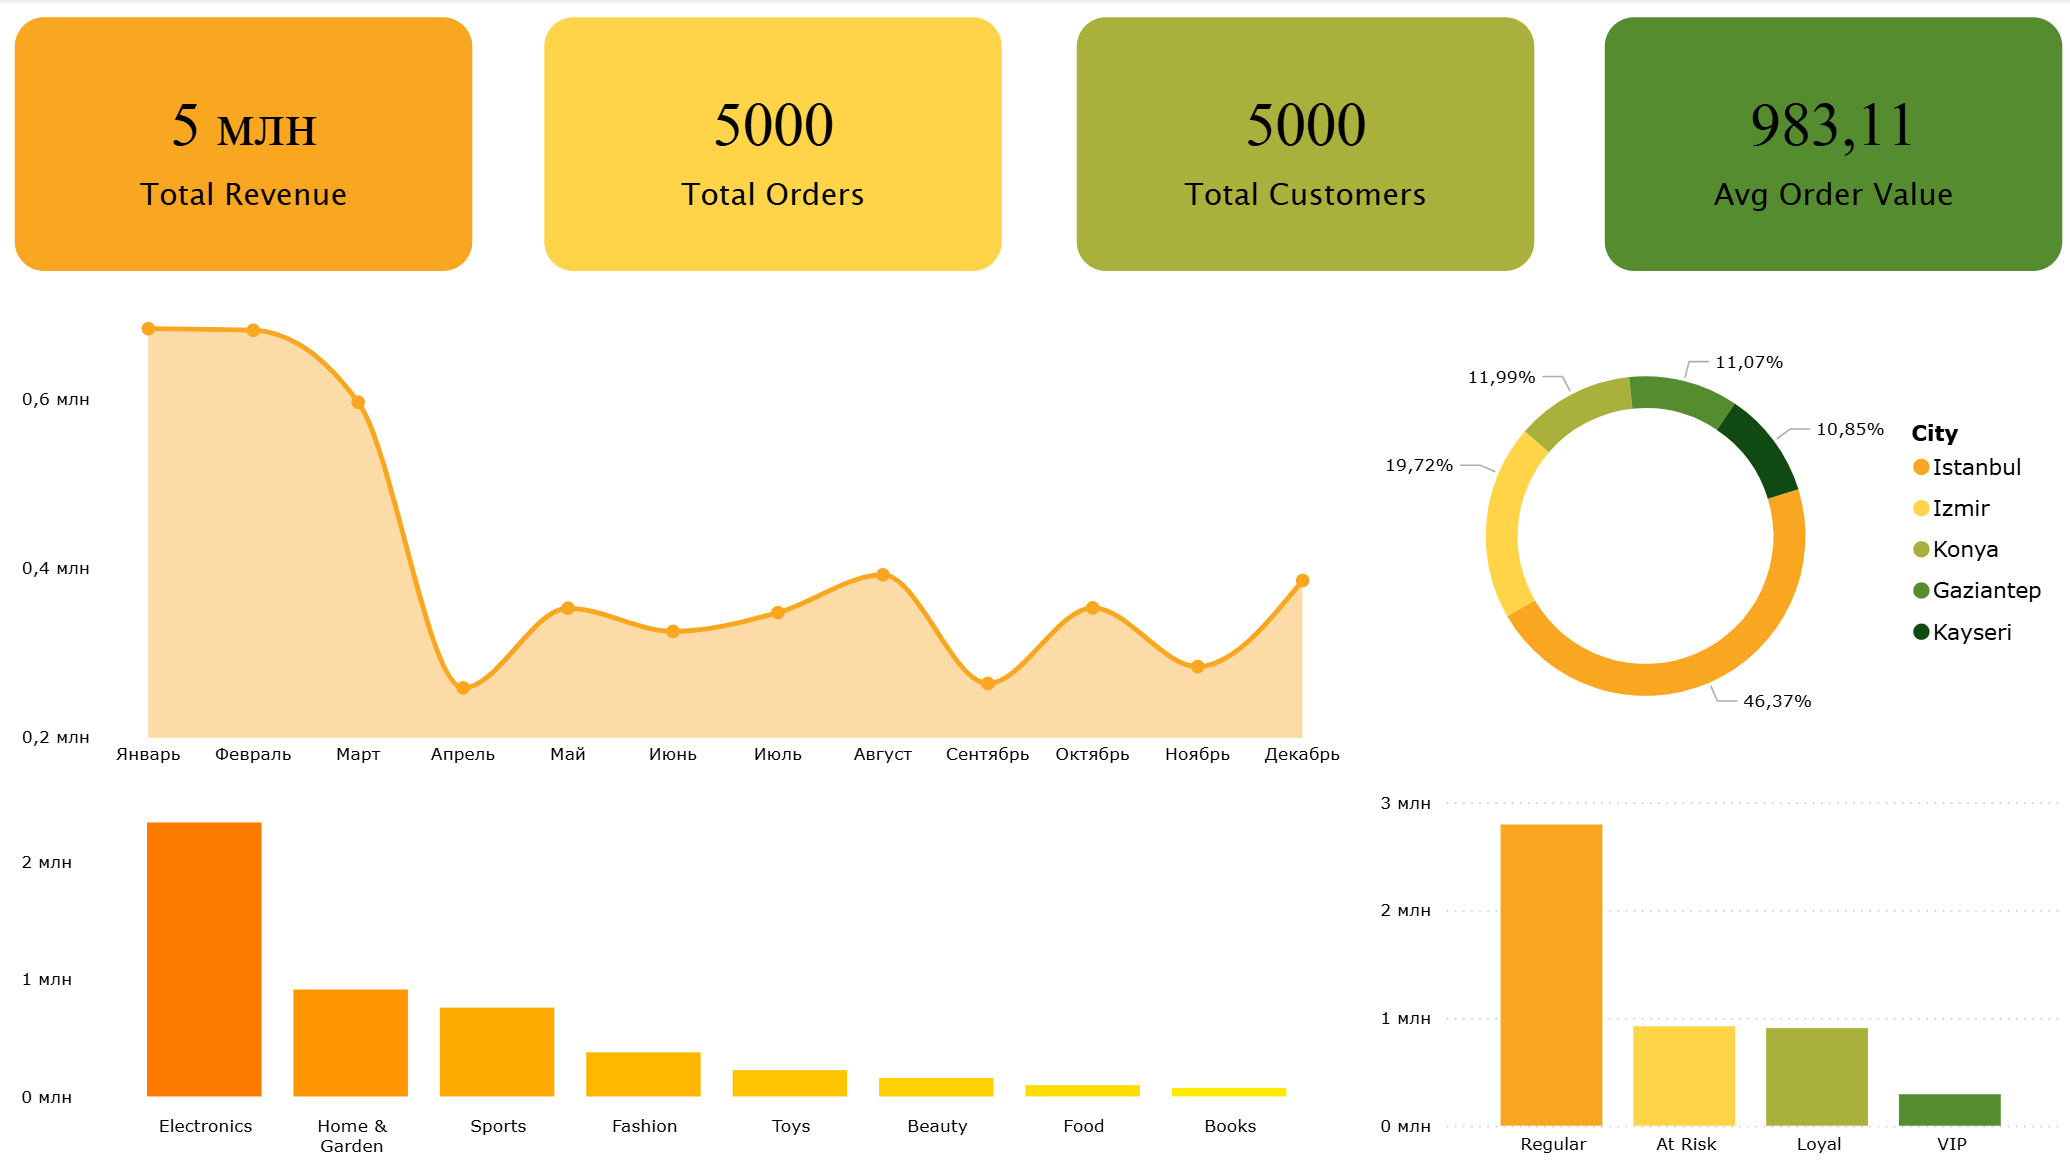

Layout of this report page (visuals, bound fields, positions):
{"tool":"powerbi","page":{"name":"Dashboard","canvas":[1280,720],"ordinal":0},"visuals":[{"type":"card","fields":{"Values":["final_data_with_segments.Total Revenue"]},"box":[8.1,9.3,285,160],"z":0},{"type":"card","fields":{"Values":["final_data_with_segments.Total Orders"]},"box":[333.7,9.3,285,159.9],"z":1},{"type":"card","fields":{"Values":["final_data_with_segments.Total Customers"]},"box":[661.6,9.3,285,159.9],"z":2},{"type":"card","fields":{"Values":["final_data_with_segments.Avg Order Value"]},"box":[986.1,9.3,285,159.9],"z":3},{"type":"areaChart","fields":{"Y":["final_data_with_segments.Total Revenue"],"Category":["final_data_with_segments.Date.Изменение.Иерархия дат.Месяц"]},"box":[8.1,179.6,827.3,300.1],"z":4},{"type":"clusteredColumnChart","fields":{"Category":["final_data_with_segments.Product_Category"],"Y":["final_data_with_segments.Total Revenue"]},"box":[8.1,479.7,826.2,239.9],"z":5},{"type":"donutChart","fields":{"Category":["final_data_with_segments.City"],"Y":["final_data_with_segments.Total Revenue"]},"box":[843.6,179.6,427.6,300.1],"z":6},{"type":"clusteredColumnChart","fields":{"Category":["final_data_with_segments.Segment"],"Y":["final_data_with_segments.Total Revenue"]},"box":[843.6,479.7,427.6,239.9],"z":7}]}

Visuals, with their boxes in screenshot pixels (x1, y1, x2, y2), scaled from the page's 1280x720 canvas onto the 2070x1163 screenshot:
card - final_data_with_segments.Total Revenue: locate(13, 15, 474, 273)
card - final_data_with_segments.Total Orders: locate(540, 15, 1001, 273)
card - final_data_with_segments.Total Customers: locate(1070, 15, 1531, 273)
card - final_data_with_segments.Avg Order Value: locate(1595, 15, 2056, 273)
areaChart - final_data_with_segments.Total Revenue x final_data_with_segments.Date.Изменение.Иерархия дат.Месяц: locate(13, 290, 1351, 775)
clusteredColumnChart - final_data_with_segments.Product_Category x final_data_with_segments.Total Revenue: locate(13, 775, 1349, 1162)
donutChart - final_data_with_segments.City x final_data_with_segments.Total Revenue: locate(1364, 290, 2056, 775)
clusteredColumnChart - final_data_with_segments.Segment x final_data_with_segments.Total Revenue: locate(1364, 775, 2056, 1162)
